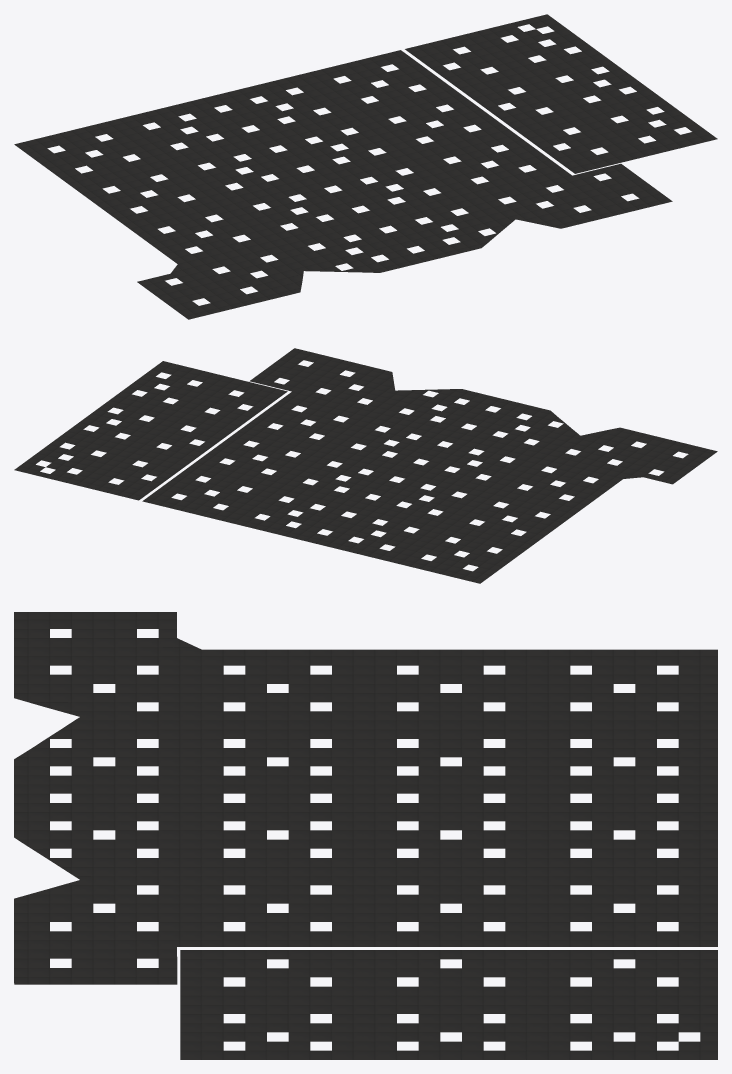
File: Ceiling.DAE
3 views of the same model, one above another, from view 1: azimuth 30°, elevation 25°; view 2: azimuth 150°, elevation 25°; view 3: azimuth 270°, elevation 25° (orthographic). The views are drawn at different scales.
Visible parts, largest first — view 1: Ceiling; view 2: Ceiling; view 3: Ceiling.
Boxes of the visible parts, bbox=[...] form: Ceiling: bbox=[14, 14, 717, 319]; Ceiling: bbox=[14, 348, 717, 583]; Ceiling: bbox=[14, 612, 717, 1059].
Bounding box in the file's own units: 1173 × 780 × 0.000961.
1 material, 1 textured.
